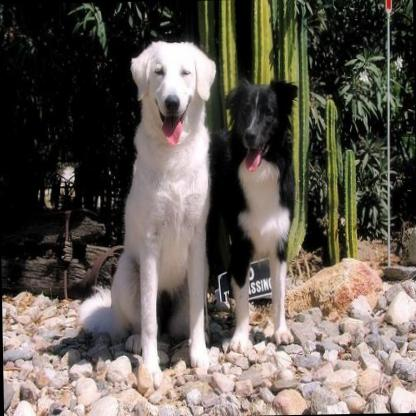kuvasz: (68, 38, 220, 387)
